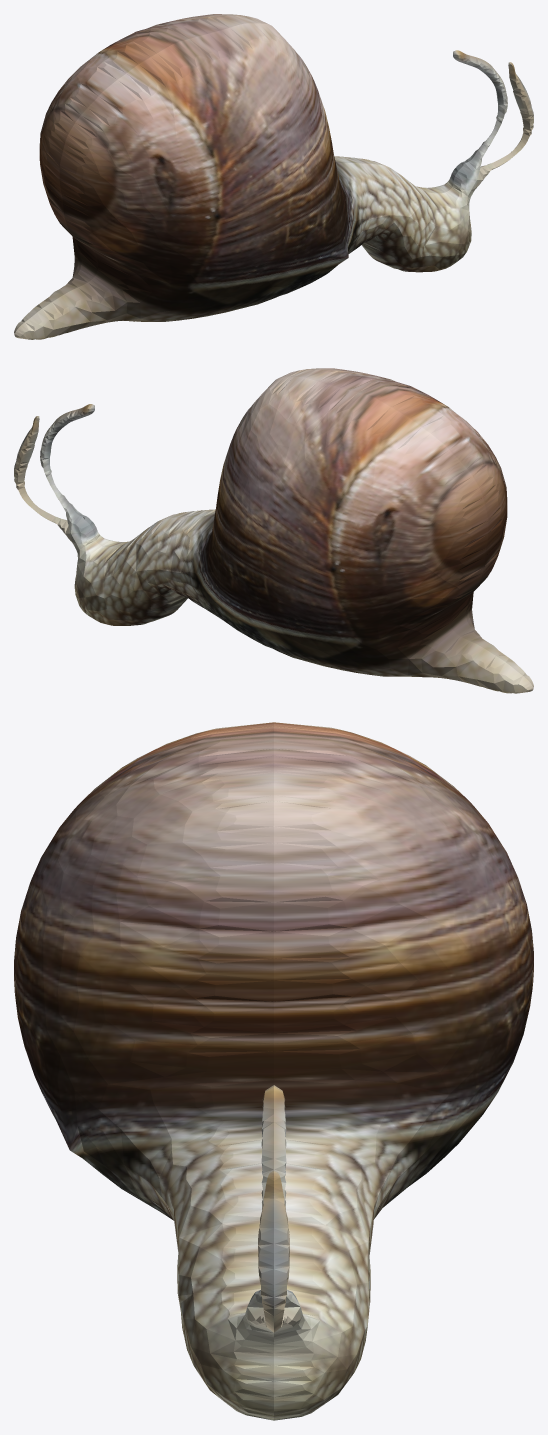
Rendered from SNAIL.glb.
The picture shows the model from 3 angles, top to bottom: view 1: azimuth 30°, elevation 25°; view 2: azimuth 150°, elevation 25°; view 3: azimuth 270°, elevation 25°; orthographic projection. The views are drawn at different scales.
Parts seen in each view (by area): view 1: 8df5e2c1-ac95-4e96-a19d-6986791a1e2c; view 2: 8df5e2c1-ac95-4e96-a19d-6986791a1e2c; view 3: 8df5e2c1-ac95-4e96-a19d-6986791a1e2c.
Boxes of the visible parts, x1=… form: 8df5e2c1-ac95-4e96-a19d-6986791a1e2c: x1=14, y1=14, x2=533, y2=339; 8df5e2c1-ac95-4e96-a19d-6986791a1e2c: x1=14, y1=368, x2=533, y2=693; 8df5e2c1-ac95-4e96-a19d-6986791a1e2c: x1=14, y1=722, x2=533, y2=1420.
Size of the model in its own units: 0.111 by 0.059 by 0.058.
1 material, 1 textured.
